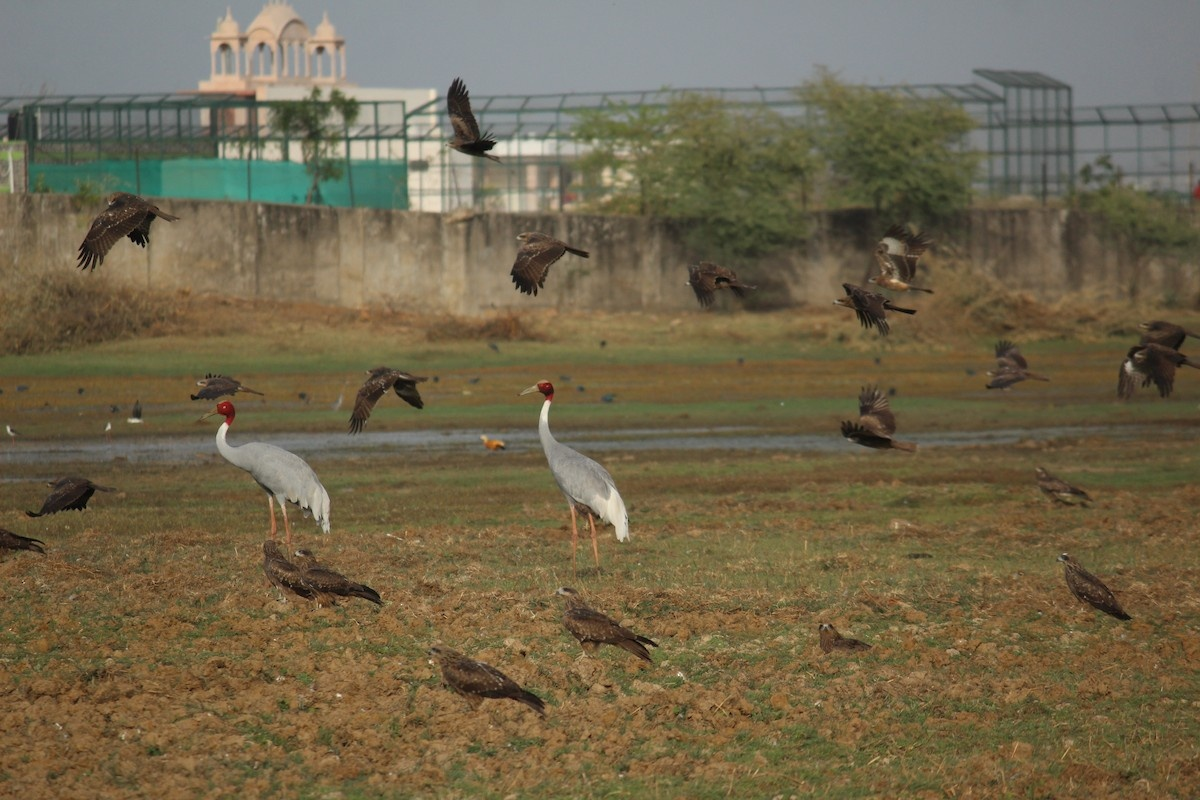crane: (515, 362, 651, 554), (191, 396, 349, 536)
